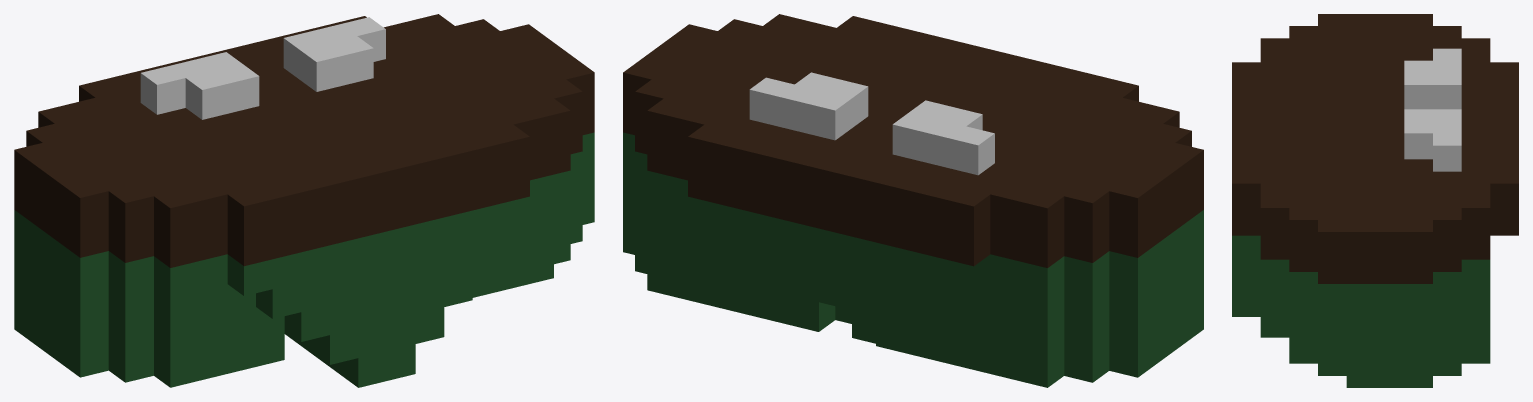
The model's file is EnemySkeleton2-2.obj.
3 renders of one model, left to right at view 1: azimuth 30°, elevation 25°; view 2: azimuth 150°, elevation 25°; view 3: azimuth 270°, elevation 25°, orthographic. The views are drawn at different scales.
Bounding box in the file's own units: 1.8 × 0.8 × 1.
Materials: 1 (1 with a texture image).
